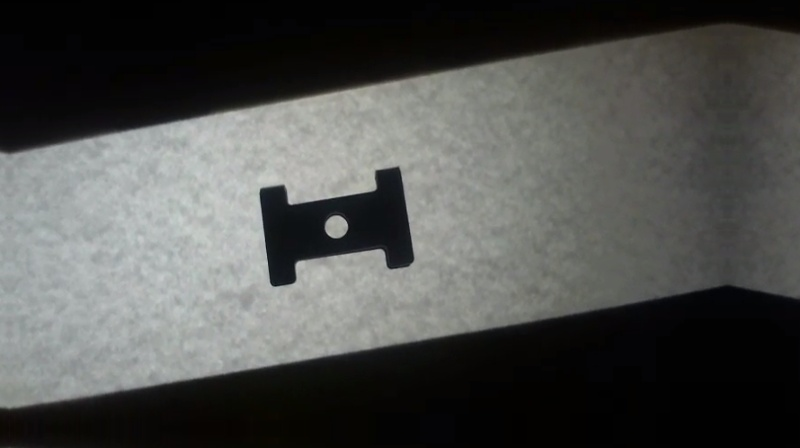O002: (256, 164, 416, 288)
